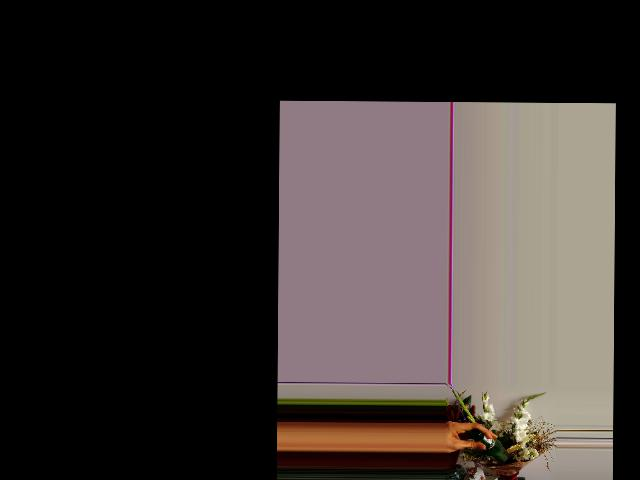beer: (469, 428, 508, 462)
